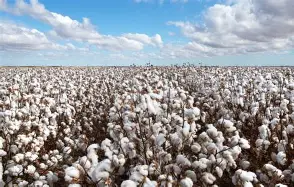crops: (1, 65, 290, 185), (66, 139, 123, 187)
